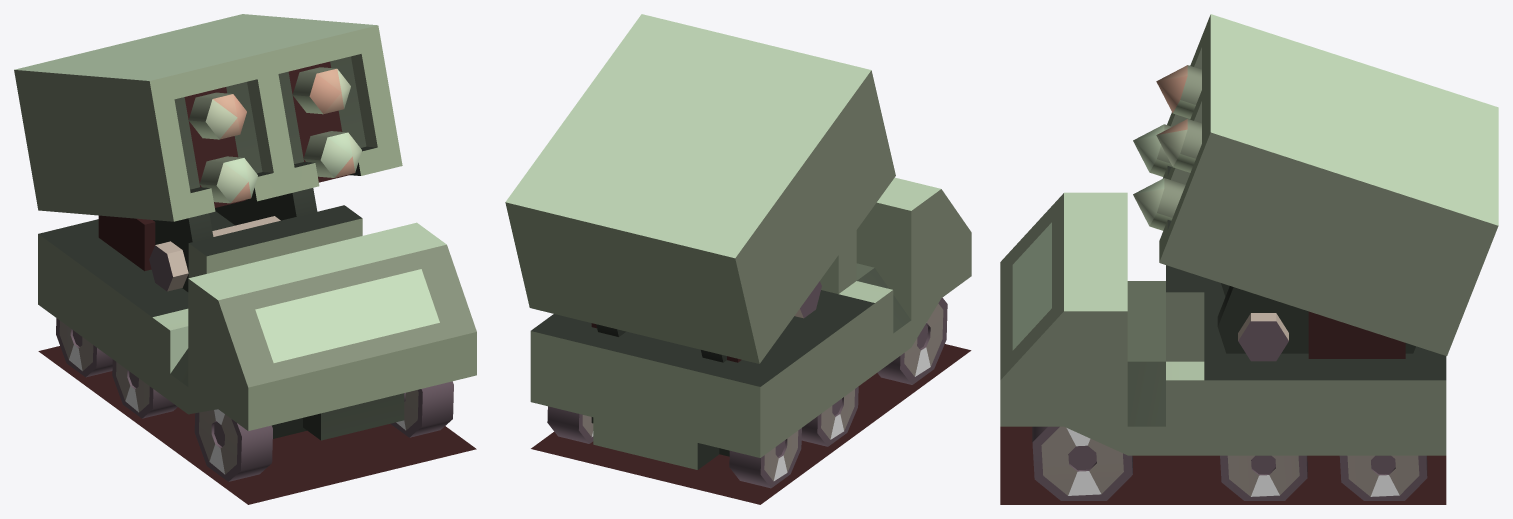
Rendered from RocketMesh.JadeSun.glb.
The picture shows the model from 3 angles, left to right: view 1: azimuth 30°, elevation 25°; view 2: azimuth 150°, elevation 25°; view 3: azimuth 270°, elevation 25°; orthographic projection. The views are drawn at different scales.
Parts seen in each view (by area): view 1: RocketMesh.JadeSun; view 2: RocketMesh.JadeSun; view 3: RocketMesh.JadeSun.
Part boxes in pixels (x1,y1,x2,y2): RocketMesh.JadeSun: [14, 14, 476, 504]; RocketMesh.JadeSun: [505, 14, 971, 504]; RocketMesh.JadeSun: [1000, 14, 1498, 504].
Size of the model in its own units: 1.1 by 1.63 by 1.96.
1 material, 1 textured.
